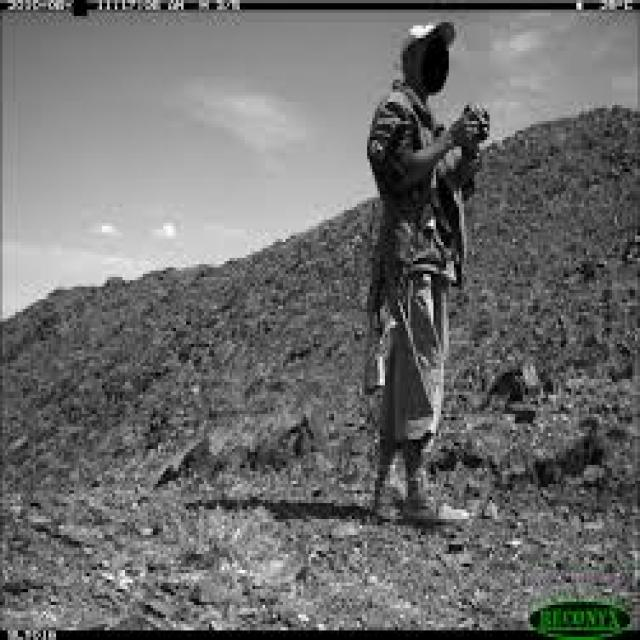poacher: (329, 12, 514, 532)
